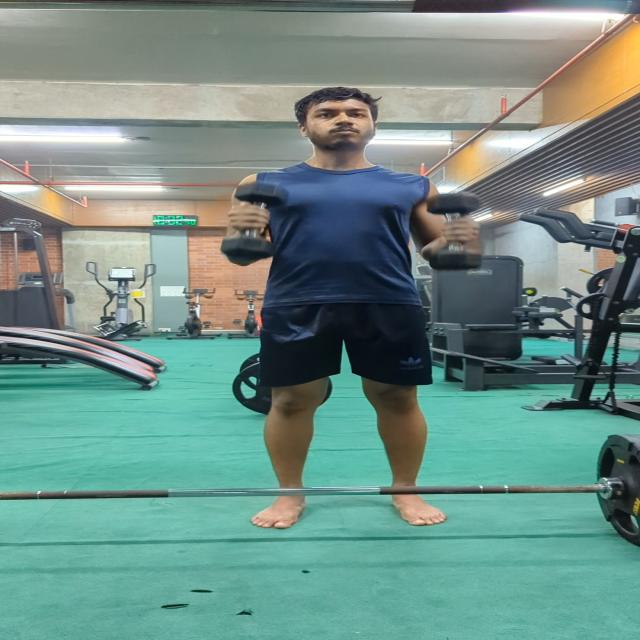Normal_DumbbellBicepCurls: (190, 81, 510, 541)
